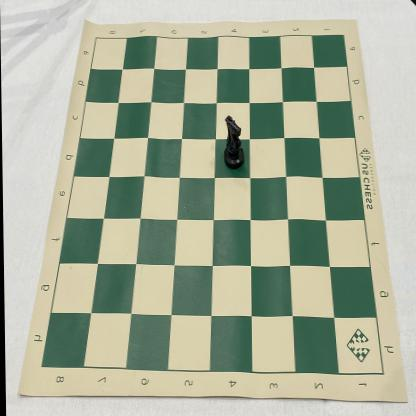black-knight: (222, 116, 245, 170)
